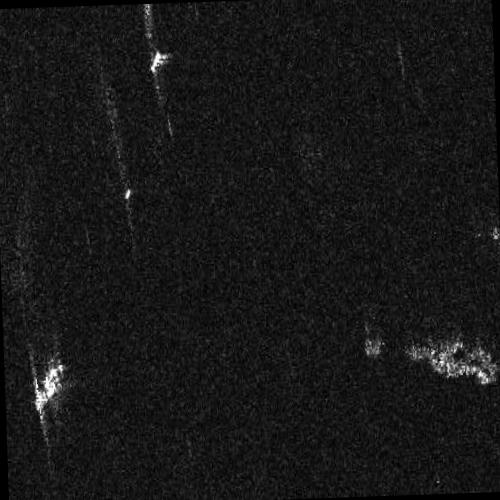ship: (32, 362, 65, 413), (149, 49, 162, 73), (123, 187, 131, 200)
